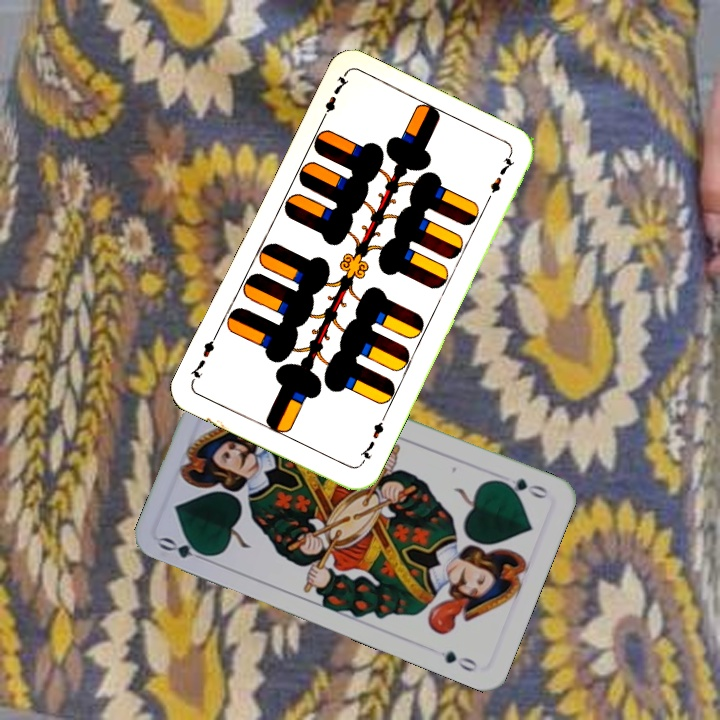E7: (316, 70, 352, 126), (355, 412, 388, 468)
GO: (155, 533, 214, 565), (493, 474, 551, 502)
